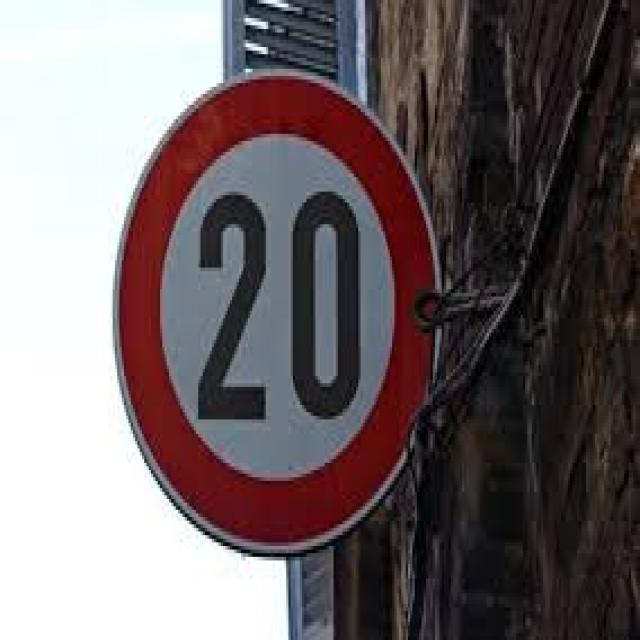speed_limit_20: (105, 61, 444, 556)
